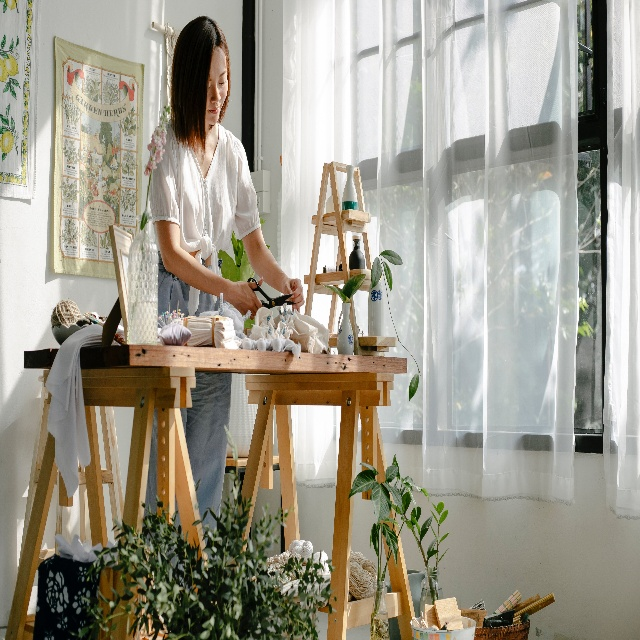Sin_guantes: (232, 275, 264, 320), (281, 277, 305, 313)
